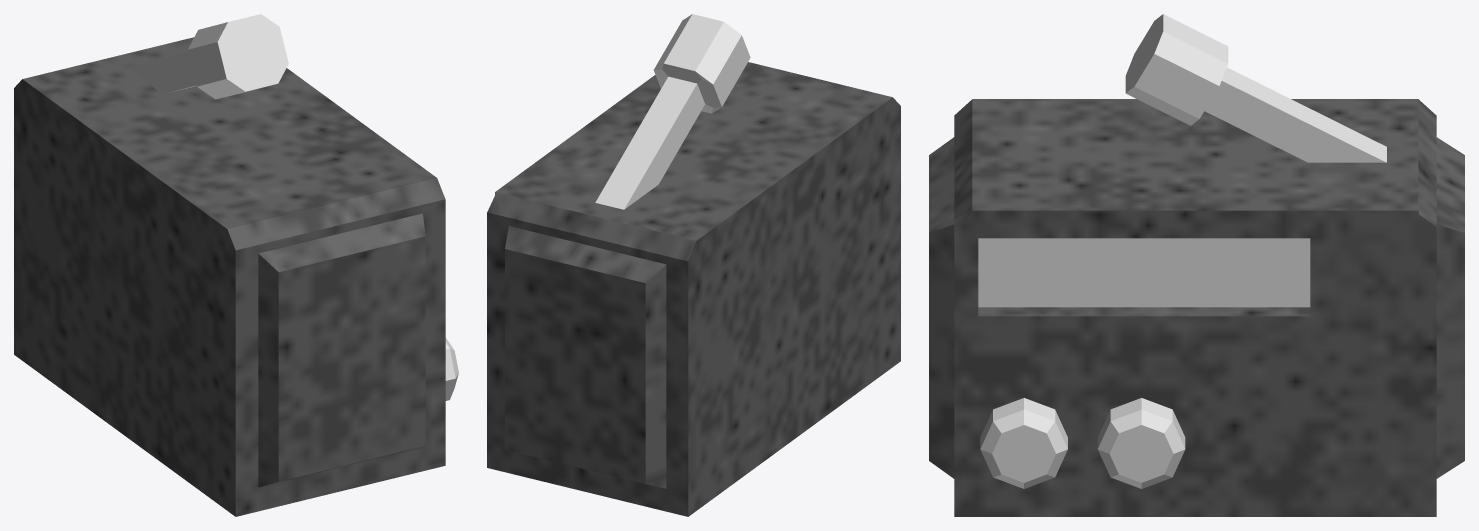
Rendered from Radio.fbx.
The picture shows the model from 3 angles, left to right: view 1: azimuth 30°, elevation 25°; view 2: azimuth 150°, elevation 25°; view 3: azimuth 270°, elevation 25°; orthographic projection. The views are drawn at different scales.
Visible parts, largest first — view 1: Cube, Cube.001, Cylinder; view 2: Cube, Cube.001; view 3: Cube, Cube.001, Cylinder.002, Cylinder.
Boxes of the visible parts, x1=… form: Cube: x1=14, y1=37, x2=445, y2=516; Cube.001: x1=127, y1=14, x2=288, y2=99; Cylinder: x1=445, y1=337, x2=458, y2=400; Cube: x1=487, y1=62, x2=900, y2=516; Cube.001: x1=595, y1=14, x2=750, y2=209; Cube: x1=929, y1=99, x2=1464, y2=516; Cube.001: x1=1125, y1=14, x2=1386, y2=162; Cylinder.002: x1=1097, y1=398, x2=1185, y2=488; Cylinder: x1=980, y1=398, x2=1067, y2=488.
Size of the model in its own units: 88.88 by 142 by 157.
